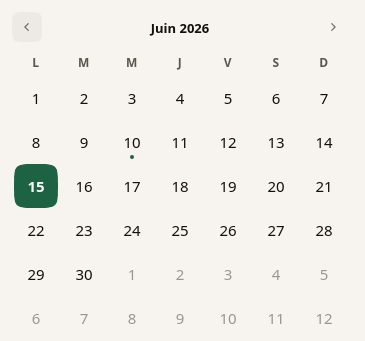
Test case: Calendar › navigue vers le mois suivant puis le mois précédent
This screenshot has width=365, height=341.
Click the button named "Mois suivant" at (333, 27), box [318, 12, 348, 42]
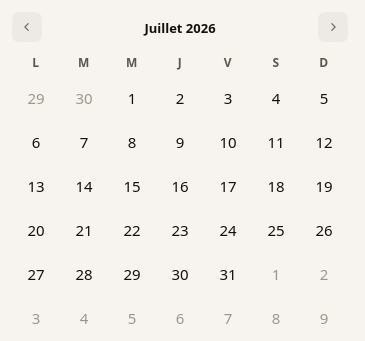
Expected: the text "Juillet 2026" is shown, [144, 19, 216, 37]
Click the button named "Mois précédent" at (27, 27), box [12, 12, 42, 42]
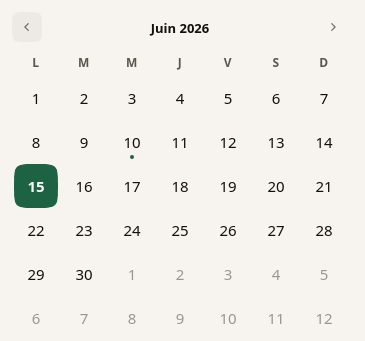
Click the button named "Mois précédent" at (27, 27), box [12, 12, 42, 42]
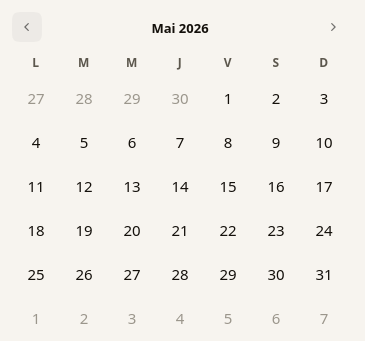
Expected: the text "Mai 2026" is shown, [151, 19, 209, 37]
